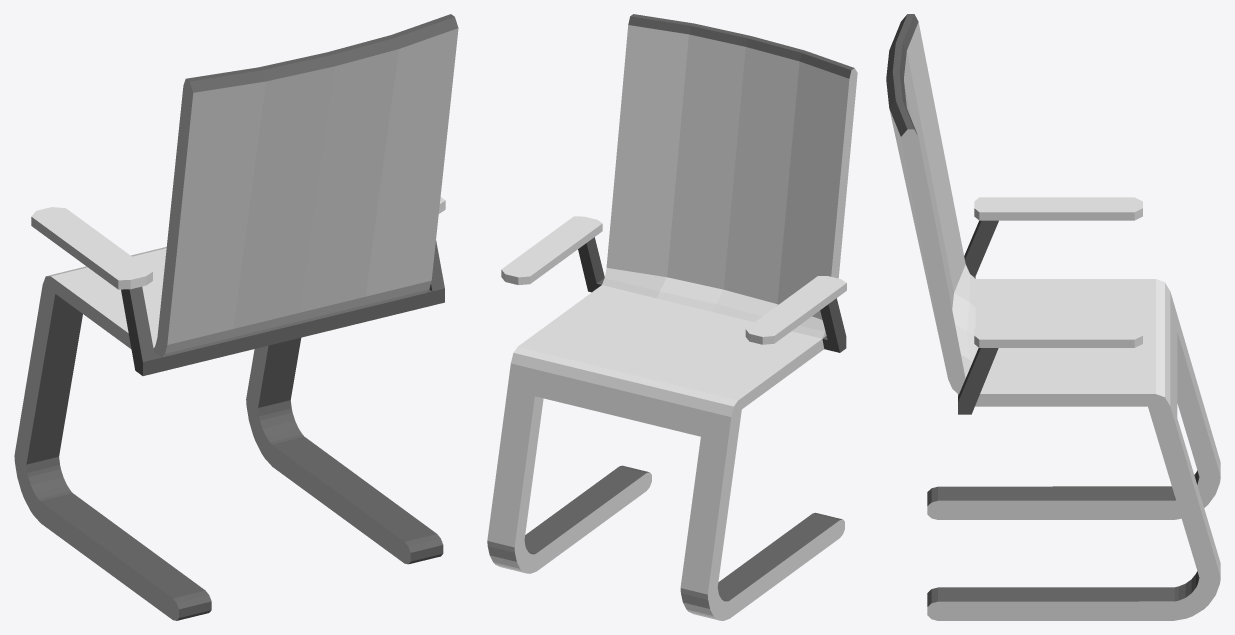
Rendered from Chair.fbx.
3 renders of one model, left to right at view 1: azimuth 30°, elevation 25°; view 2: azimuth 150°, elevation 25°; view 3: azimuth 270°, elevation 25°, orthographic. The views are drawn at different scales.
Parts seen in each view (by area): view 1: Cube; view 2: Cube; view 3: Cube.
Boxes of the visible parts, box(x1,y1,x2,y2) form: Cube: box(14, 14, 458, 620); Cube: box(487, 14, 857, 620); Cube: box(886, 14, 1220, 620).
Size of the model in its own units: 93.2 by 150 by 92.52.
